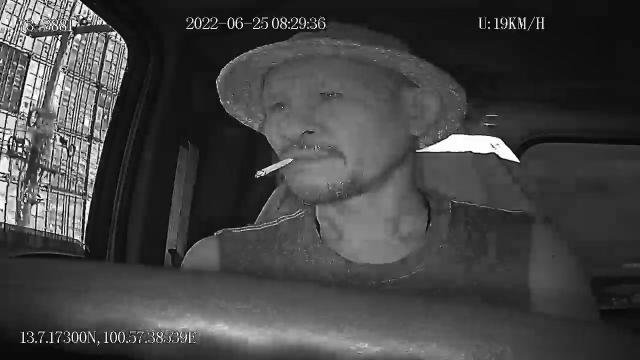Smoking: (255, 156, 295, 178)
